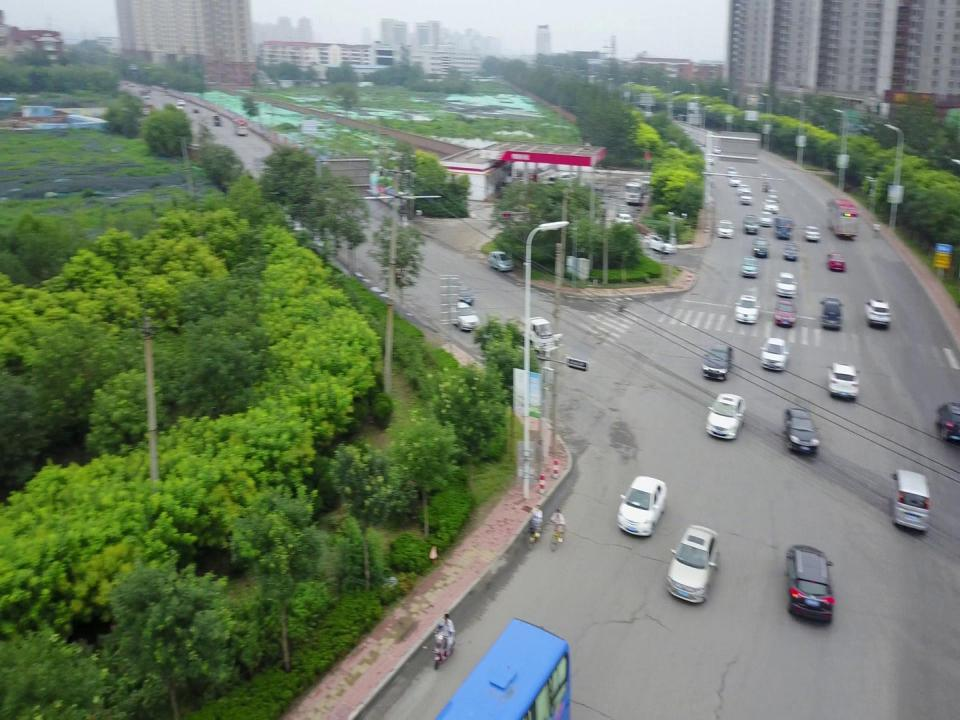bus: (826, 197, 858, 242), (232, 116, 250, 136)
car: (784, 545, 836, 627), (666, 525, 716, 605), (613, 475, 667, 534), (704, 392, 744, 442), (783, 409, 821, 456), (827, 361, 860, 401), (702, 341, 732, 382), (761, 337, 787, 374), (448, 302, 480, 332), (864, 298, 893, 330), (938, 398, 958, 444), (734, 295, 760, 324), (774, 300, 798, 328), (648, 234, 676, 257), (486, 251, 512, 273), (739, 258, 759, 280), (753, 237, 771, 260), (614, 214, 632, 234), (718, 218, 734, 239), (828, 254, 846, 271), (783, 242, 798, 262), (744, 216, 760, 233), (806, 227, 820, 243), (760, 211, 772, 228), (740, 192, 752, 208), (764, 200, 778, 213), (767, 188, 779, 200)
truck: (516, 315, 556, 353), (625, 178, 641, 207), (775, 217, 794, 241)
van: (891, 470, 929, 534), (819, 296, 842, 332)
